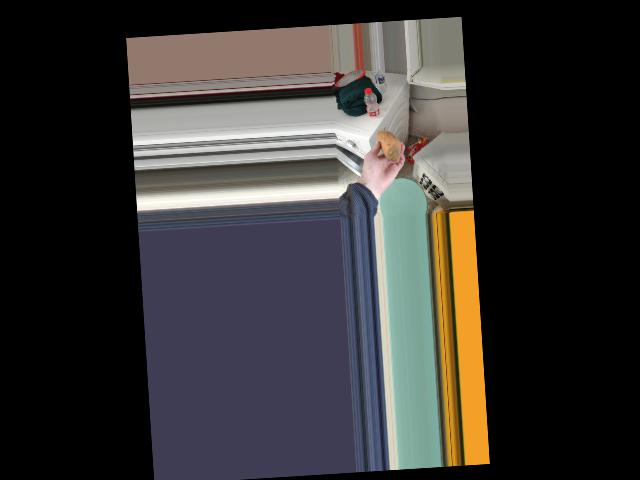sweet_potato: (377, 129, 401, 159)
